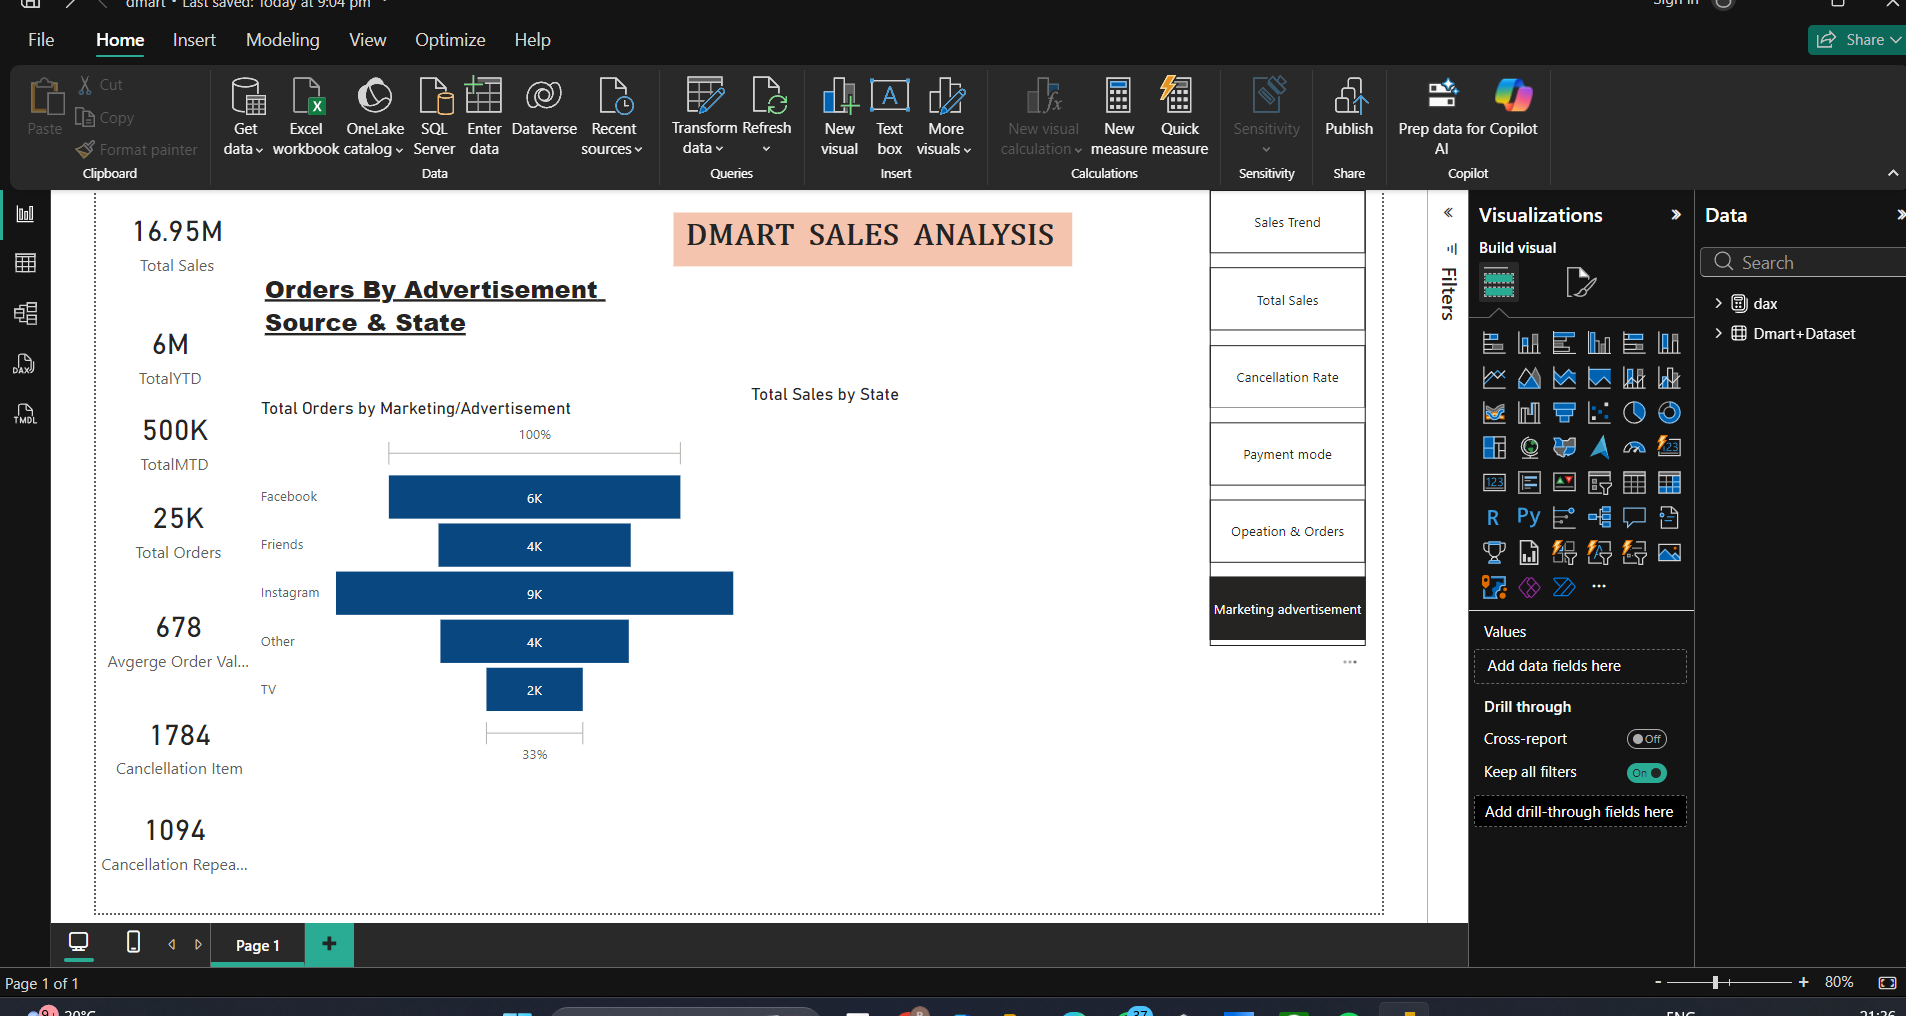

This screenshot's page, from the dashboard's own definition file:
{"tool":"powerbi","page":{"name":"Page 1","canvas":[1280,720],"ordinal":0},"visuals":[{"type":"card","fields":{"Values":["dax.total sales"]},"box":[0,0,161.7,99.5],"z":0},{"type":"donutChart","fields":{"Category":["Dmart+Dataset.Category"],"Y":["dax.total sales"]},"box":[166.7,408,460.3,276.2],"z":0,"group":"g1"},{"type":"columnChart","fields":{"Category":["Dmart+Dataset.Month"],"Y":["dax.total sales"],"Series":["Dmart+Dataset.Year"]},"box":[524.9,138.1,559.8,368.2],"z":1000,"group":"g1"},{"type":"card","fields":{"Values":["dax.total orders"]},"box":[3.7,276.2,156.7,118.2],"z":1000},{"type":"textbox","box":[162.1,60.1,391.8,68.4],"z":2000,"group":"g1"},{"type":"card","fields":{"Values":["dax.avgerge order value"]},"box":[5,394.3,154.3,99.5],"z":2000},{"type":"card","fields":{"Values":["dax.canclenation item"]},"box":[5,493.9,156.7,114.4],"z":3000},{"type":"card","fields":{"Values":["dax.canacle repeate purchase count"]},"box":[0,595.9,156.7,100.8],"z":4000},{"type":"card","fields":{"Values":["dax.totalmtd"]},"box":[0,199,156.7,98.3],"z":5000},{"type":"card","fields":{"Values":["dax.totalytd"]},"box":[0,113.2,148,98.3],"z":6000},{"type":"textbox","box":[574.9,22.5,396.5,53.7],"z":7000},{"type":"bookmarkNavigator","box":[1108.2,0,155.8,453.7],"z":8000},{"type":"group","id":"g1","title":"Group 1","box":[162.1,60.1,922.6,624.1],"z":9000}]}

Visuals, with their boxes on the page's 1280x720 design canvas (x1, y1, x2, y2). These are canvas units, not pixel positions in the 1906x1016 screenshot, which may show the page scaled, cropped or inside an application window:
card - dax.total sales: left=0, top=0, right=162, bottom=100
donutChart - Dmart+Dataset.Category x dax.total sales: left=167, top=408, right=627, bottom=684
columnChart - Dmart+Dataset.Month x dax.total sales: left=525, top=138, right=1085, bottom=506
card - dax.total orders: left=4, top=276, right=160, bottom=394
textbox: left=162, top=60, right=554, bottom=128
card - dax.avgerge order value: left=5, top=394, right=159, bottom=494
card - dax.canclenation item: left=5, top=494, right=162, bottom=608
card - dax.canacle repeate purchase count: left=0, top=596, right=157, bottom=697
card - dax.totalmtd: left=0, top=199, right=157, bottom=297
card - dax.totalytd: left=0, top=113, right=148, bottom=212
textbox: left=575, top=22, right=971, bottom=76
bookmarkNavigator: left=1108, top=0, right=1264, bottom=454
"Group 1" group: left=162, top=60, right=1085, bottom=684
